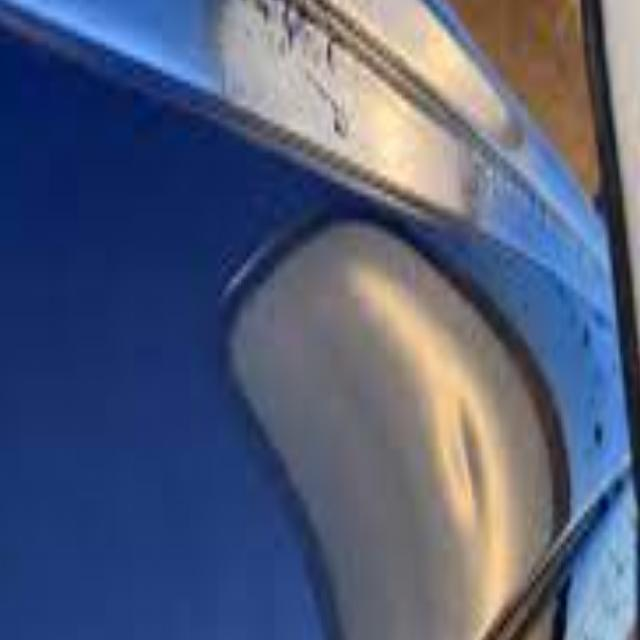dents: (440, 388, 494, 534)
